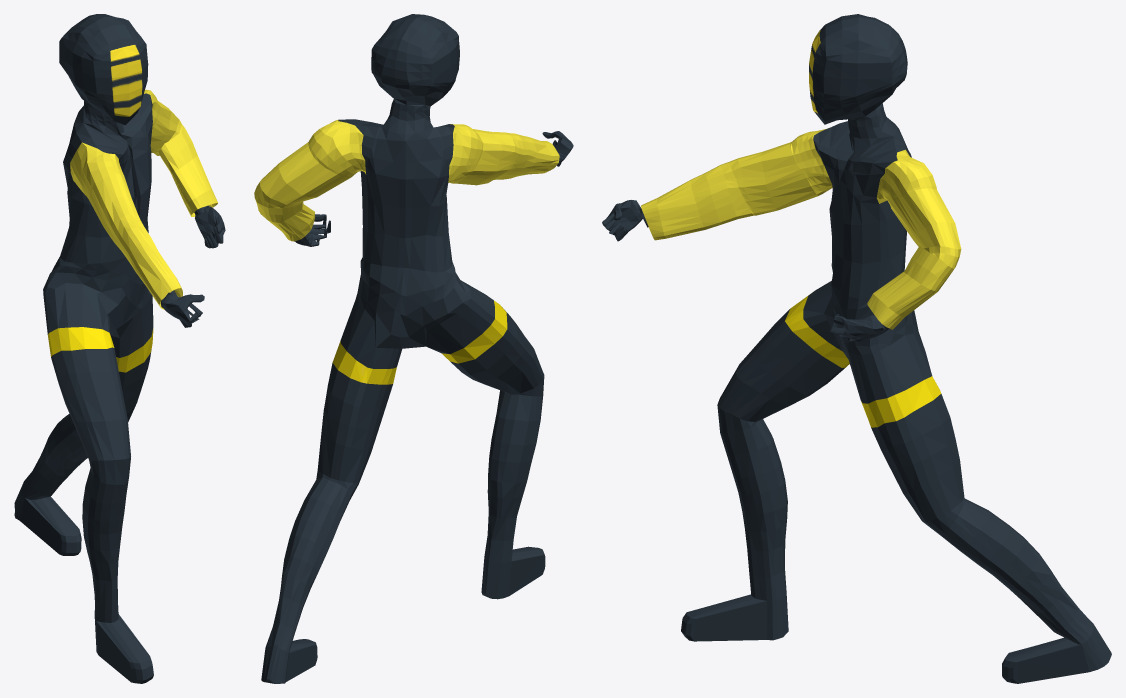
File: Sentry_Attack_000036.obj
3 views of the same model, side by side, from view 1: azimuth 30°, elevation 25°; view 2: azimuth 150°, elevation 25°; view 3: azimuth 270°, elevation 25° (orthographic). The views are drawn at different scales.
Parts seen in each view (by area): view 1: Cube; view 2: Cube; view 3: Cube.
Part boxes in pixels (left/top/right/bottom): Cube: left=14, top=14, right=225, bottom=683; Cube: left=254, top=14, right=573, bottom=683; Cube: left=602, top=14, right=1111, bottom=683.
Size of the model in its own units: 1.25 by 3.64 by 2.62.
